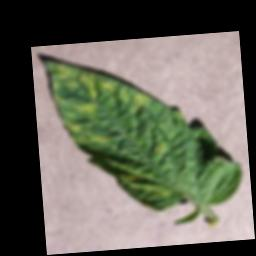Leaf_Mold: (49, 57, 98, 104), (71, 100, 99, 116), (130, 90, 151, 111), (99, 78, 116, 93), (91, 131, 111, 143), (65, 120, 83, 132)
